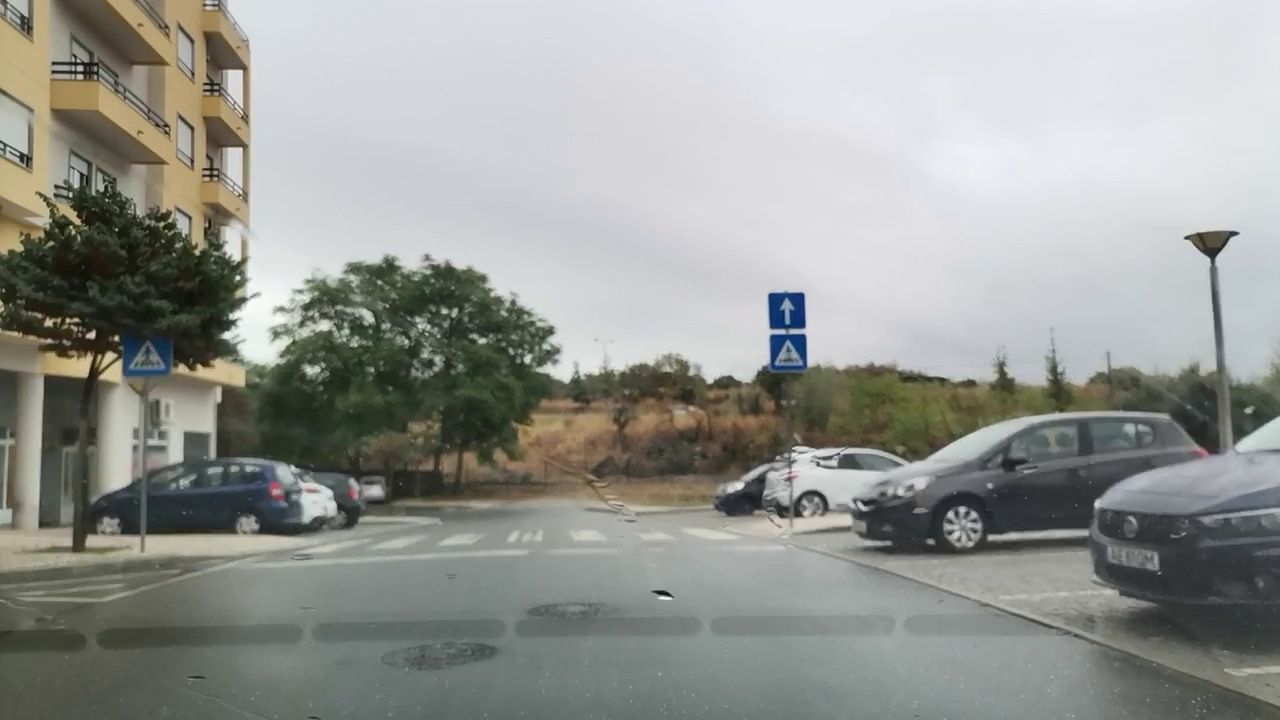Stairs: (297, 528, 774, 555)
